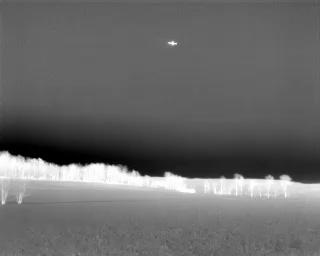DRONE: (165, 37, 181, 50)
